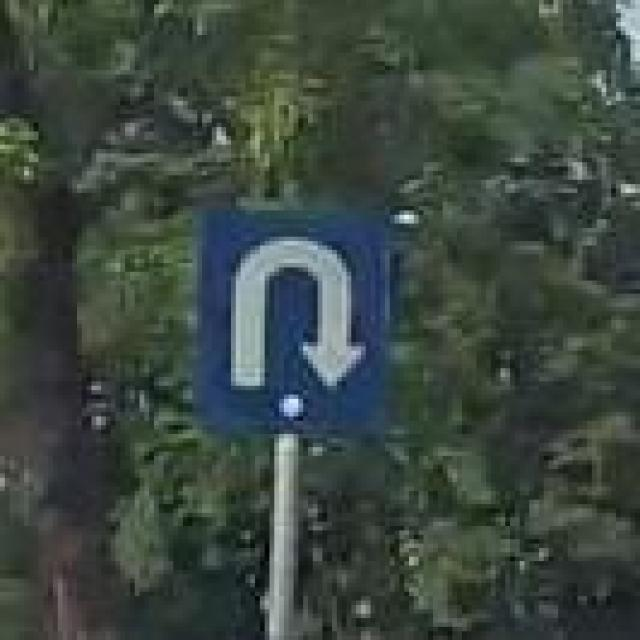traffic sign: (198, 206, 400, 434)
